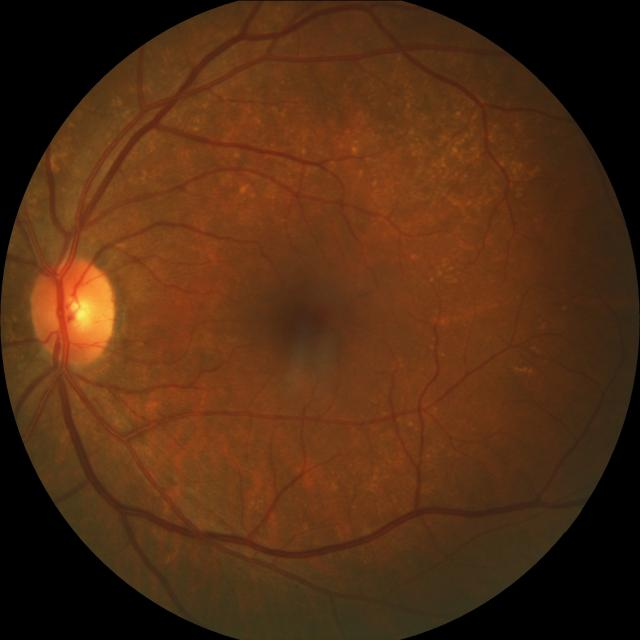OC: (54, 293, 96, 334)
OD: (28, 256, 114, 364)
